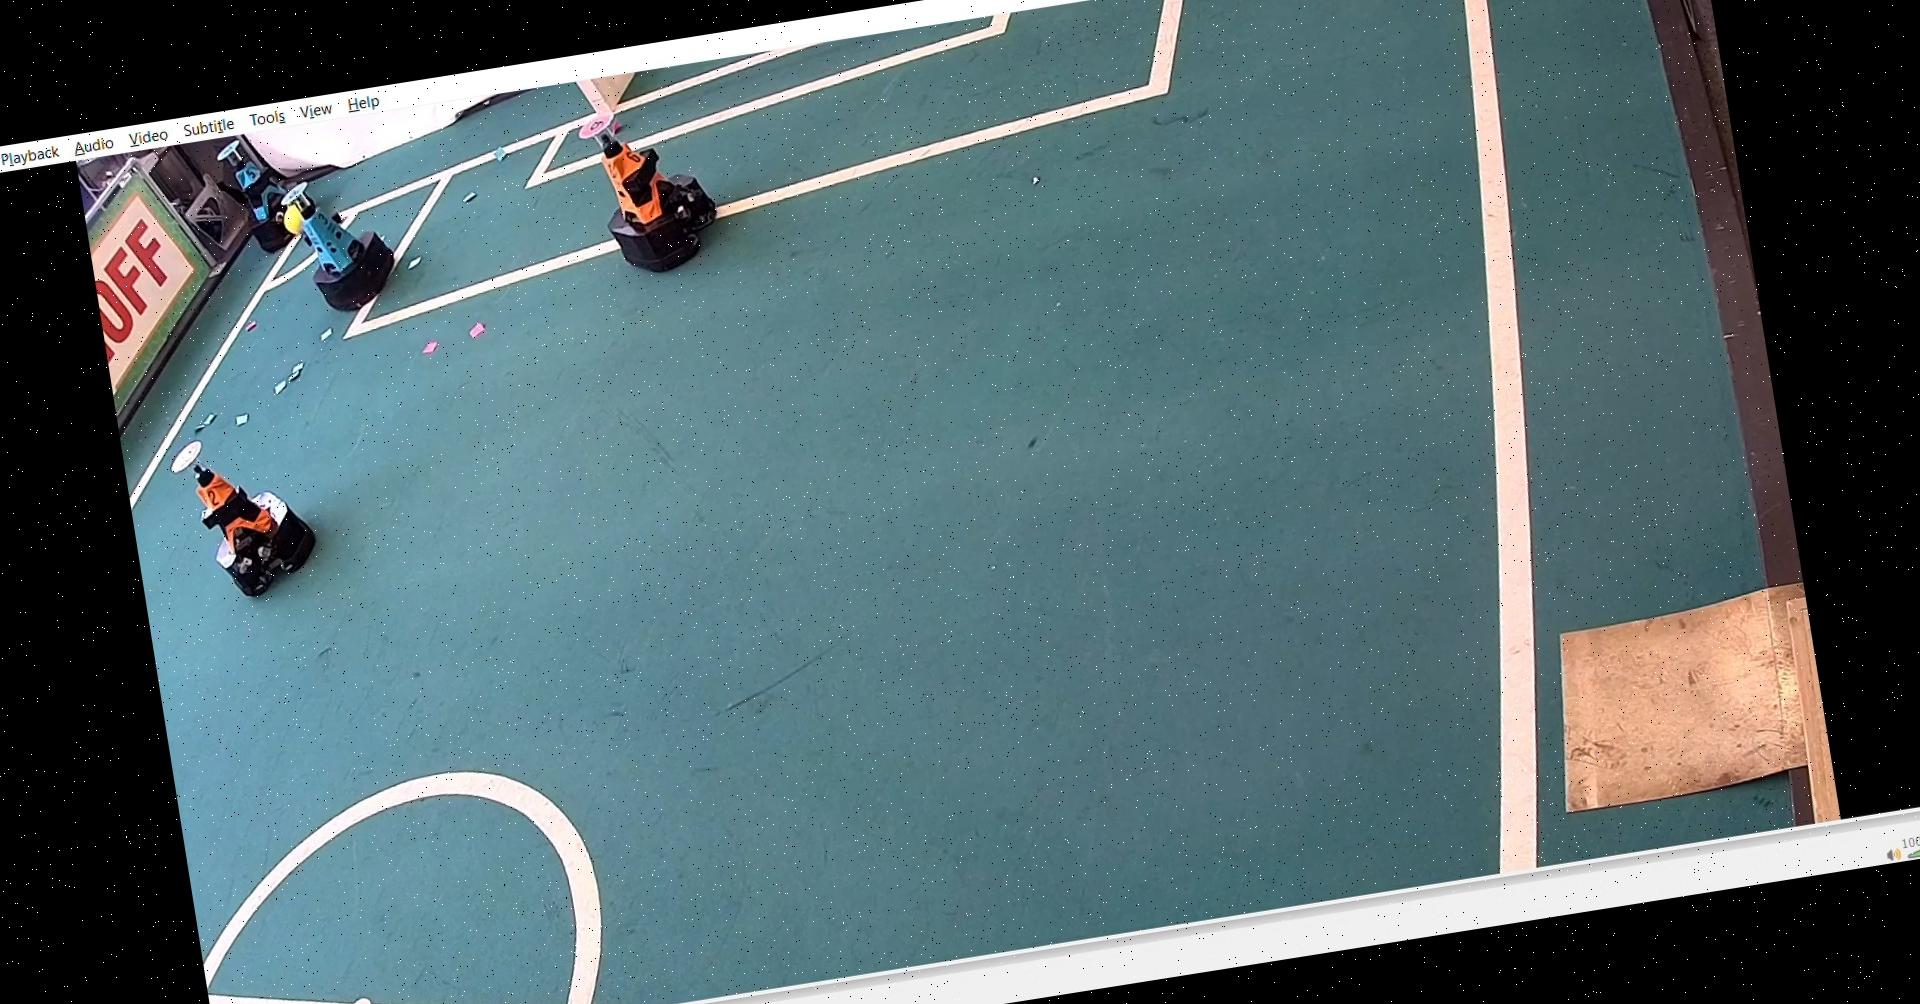Ball: (278, 194, 312, 242)
Team_Blue: (277, 168, 400, 321), (212, 129, 311, 261)
Team_Red: (165, 424, 335, 608), (574, 94, 724, 281)
